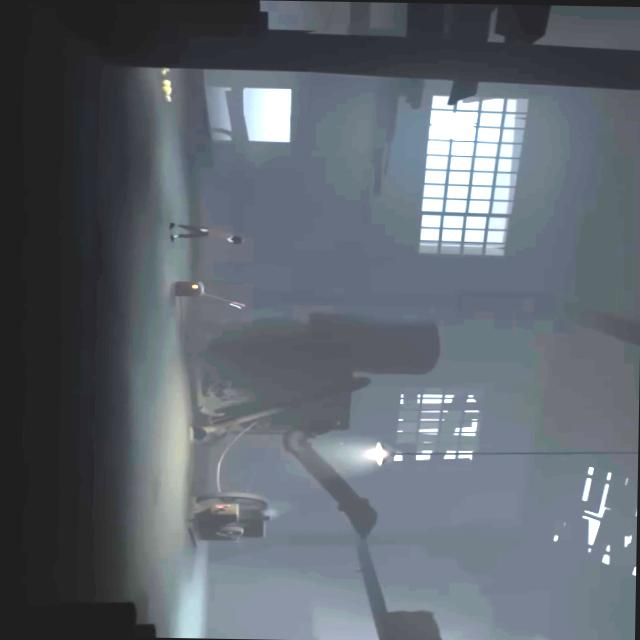boy: (168, 222, 244, 243)
